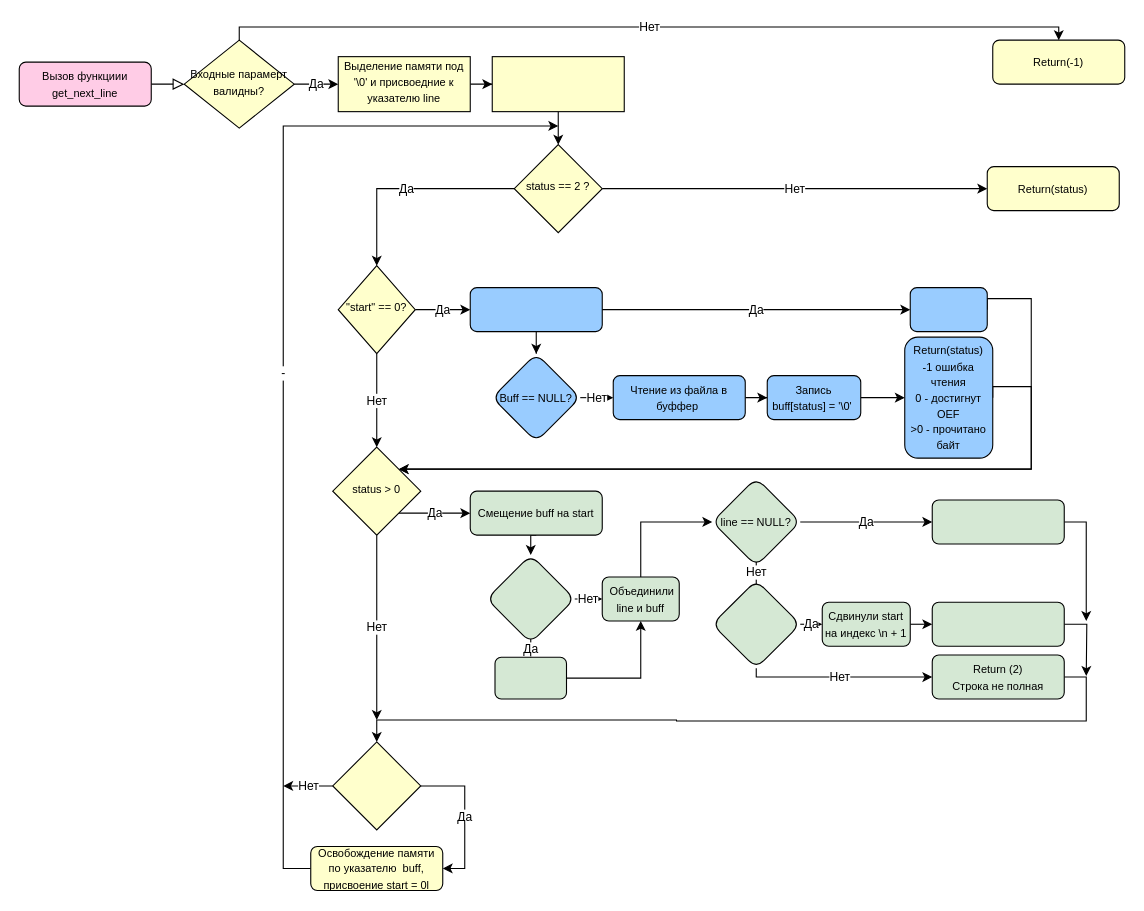
The diagram is 1144 pixels wide and 911 high, and some of its shapes have lost their labels. Here are the shapes that lost their labels. From the top down, the box of each, then its label:
(491, 56, 624, 112): Инициализация переменной "status" значением 2
(469, 287, 602, 332): Выделение памяти для чтения по указателю buff
(909, 287, 987, 332): Return(-1) (память не выделилась)
(931, 499, 1064, 544): Return (-1) память не выделилась
(486, 554, 575, 643): Нашли '\n' - ?
(711, 579, 800, 668): Нашли \n
(931, 601, 1064, 646): Return (1) Строка полная
(494, 656, 566, 699): Заменили '\n' на '\0'
(332, 741, 421, 830): status != 1 или \n в конце buff?
